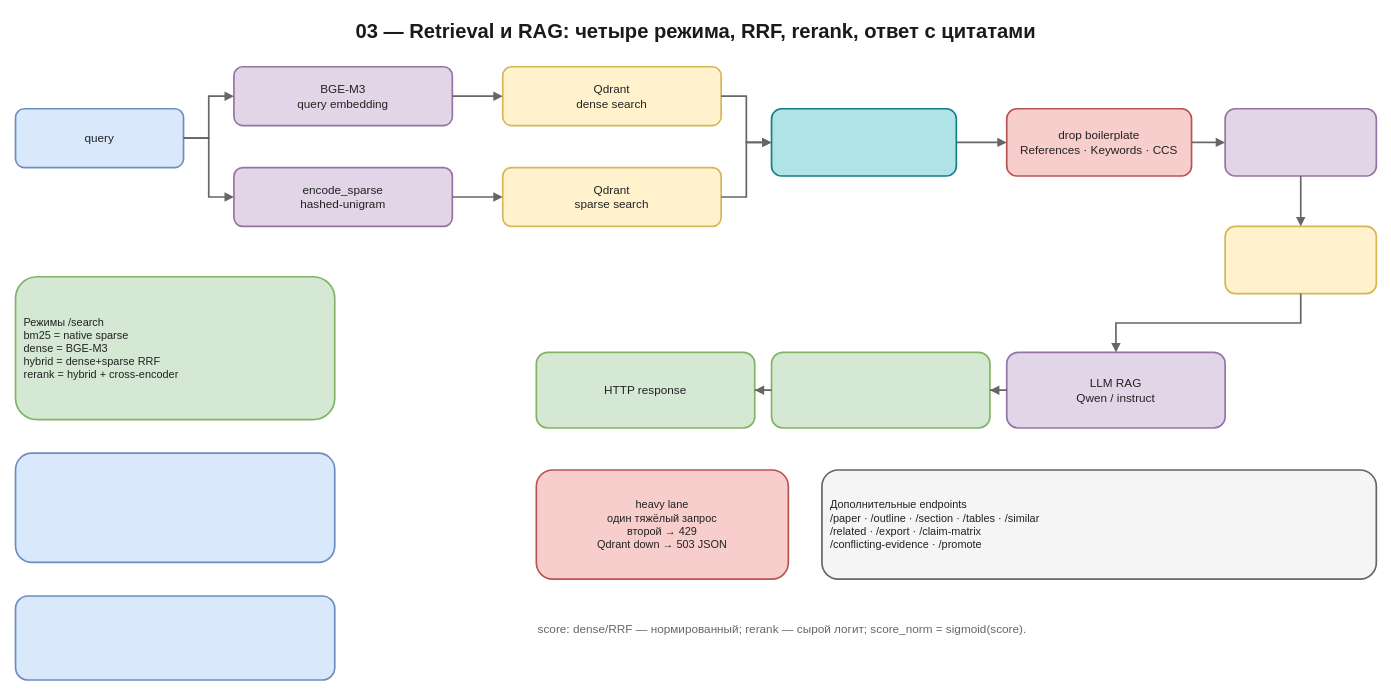
Image size: 1391x695. Some labels were removed from this diagram. Each missing label, with the centre of its shape:
"answer + [N] citations grounding + refusal" goes at [880,389].
"hydrate text/title из PostgreSQL" goes at [1300,259].
"multi-turn /ask session_id → rewrite + scope по arxiv_id TTL 1 h, 10 turns" goes at [174,507].
"paper-scoped ask /paper/{id}/ask retrieval filtered by arxiv_id" goes at [174,637].
"rerank BGE-reranker (/search: выход здесь)" goes at [1300,142].
"RRF k=60, weights 0.5/0.5" goes at [863,142].
